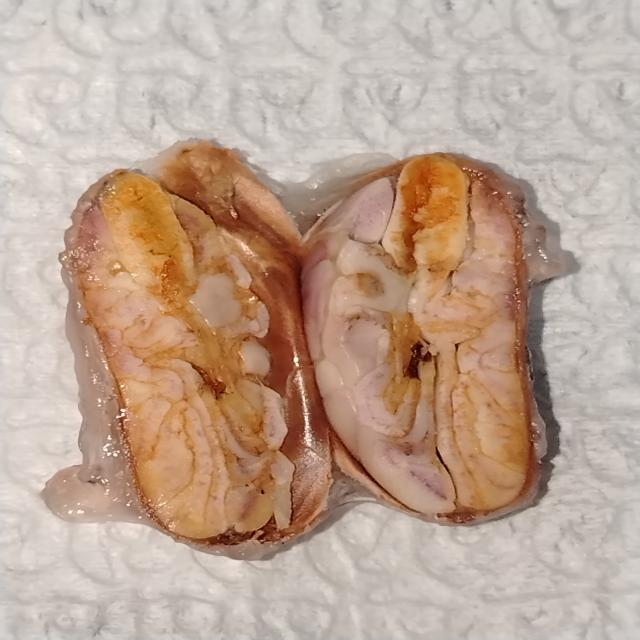Trinitario: (49, 158, 587, 538)
